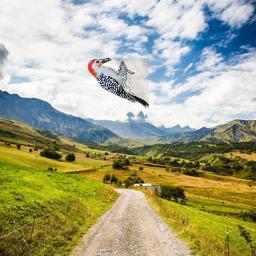Woodpecker: (88, 58, 149, 108)
